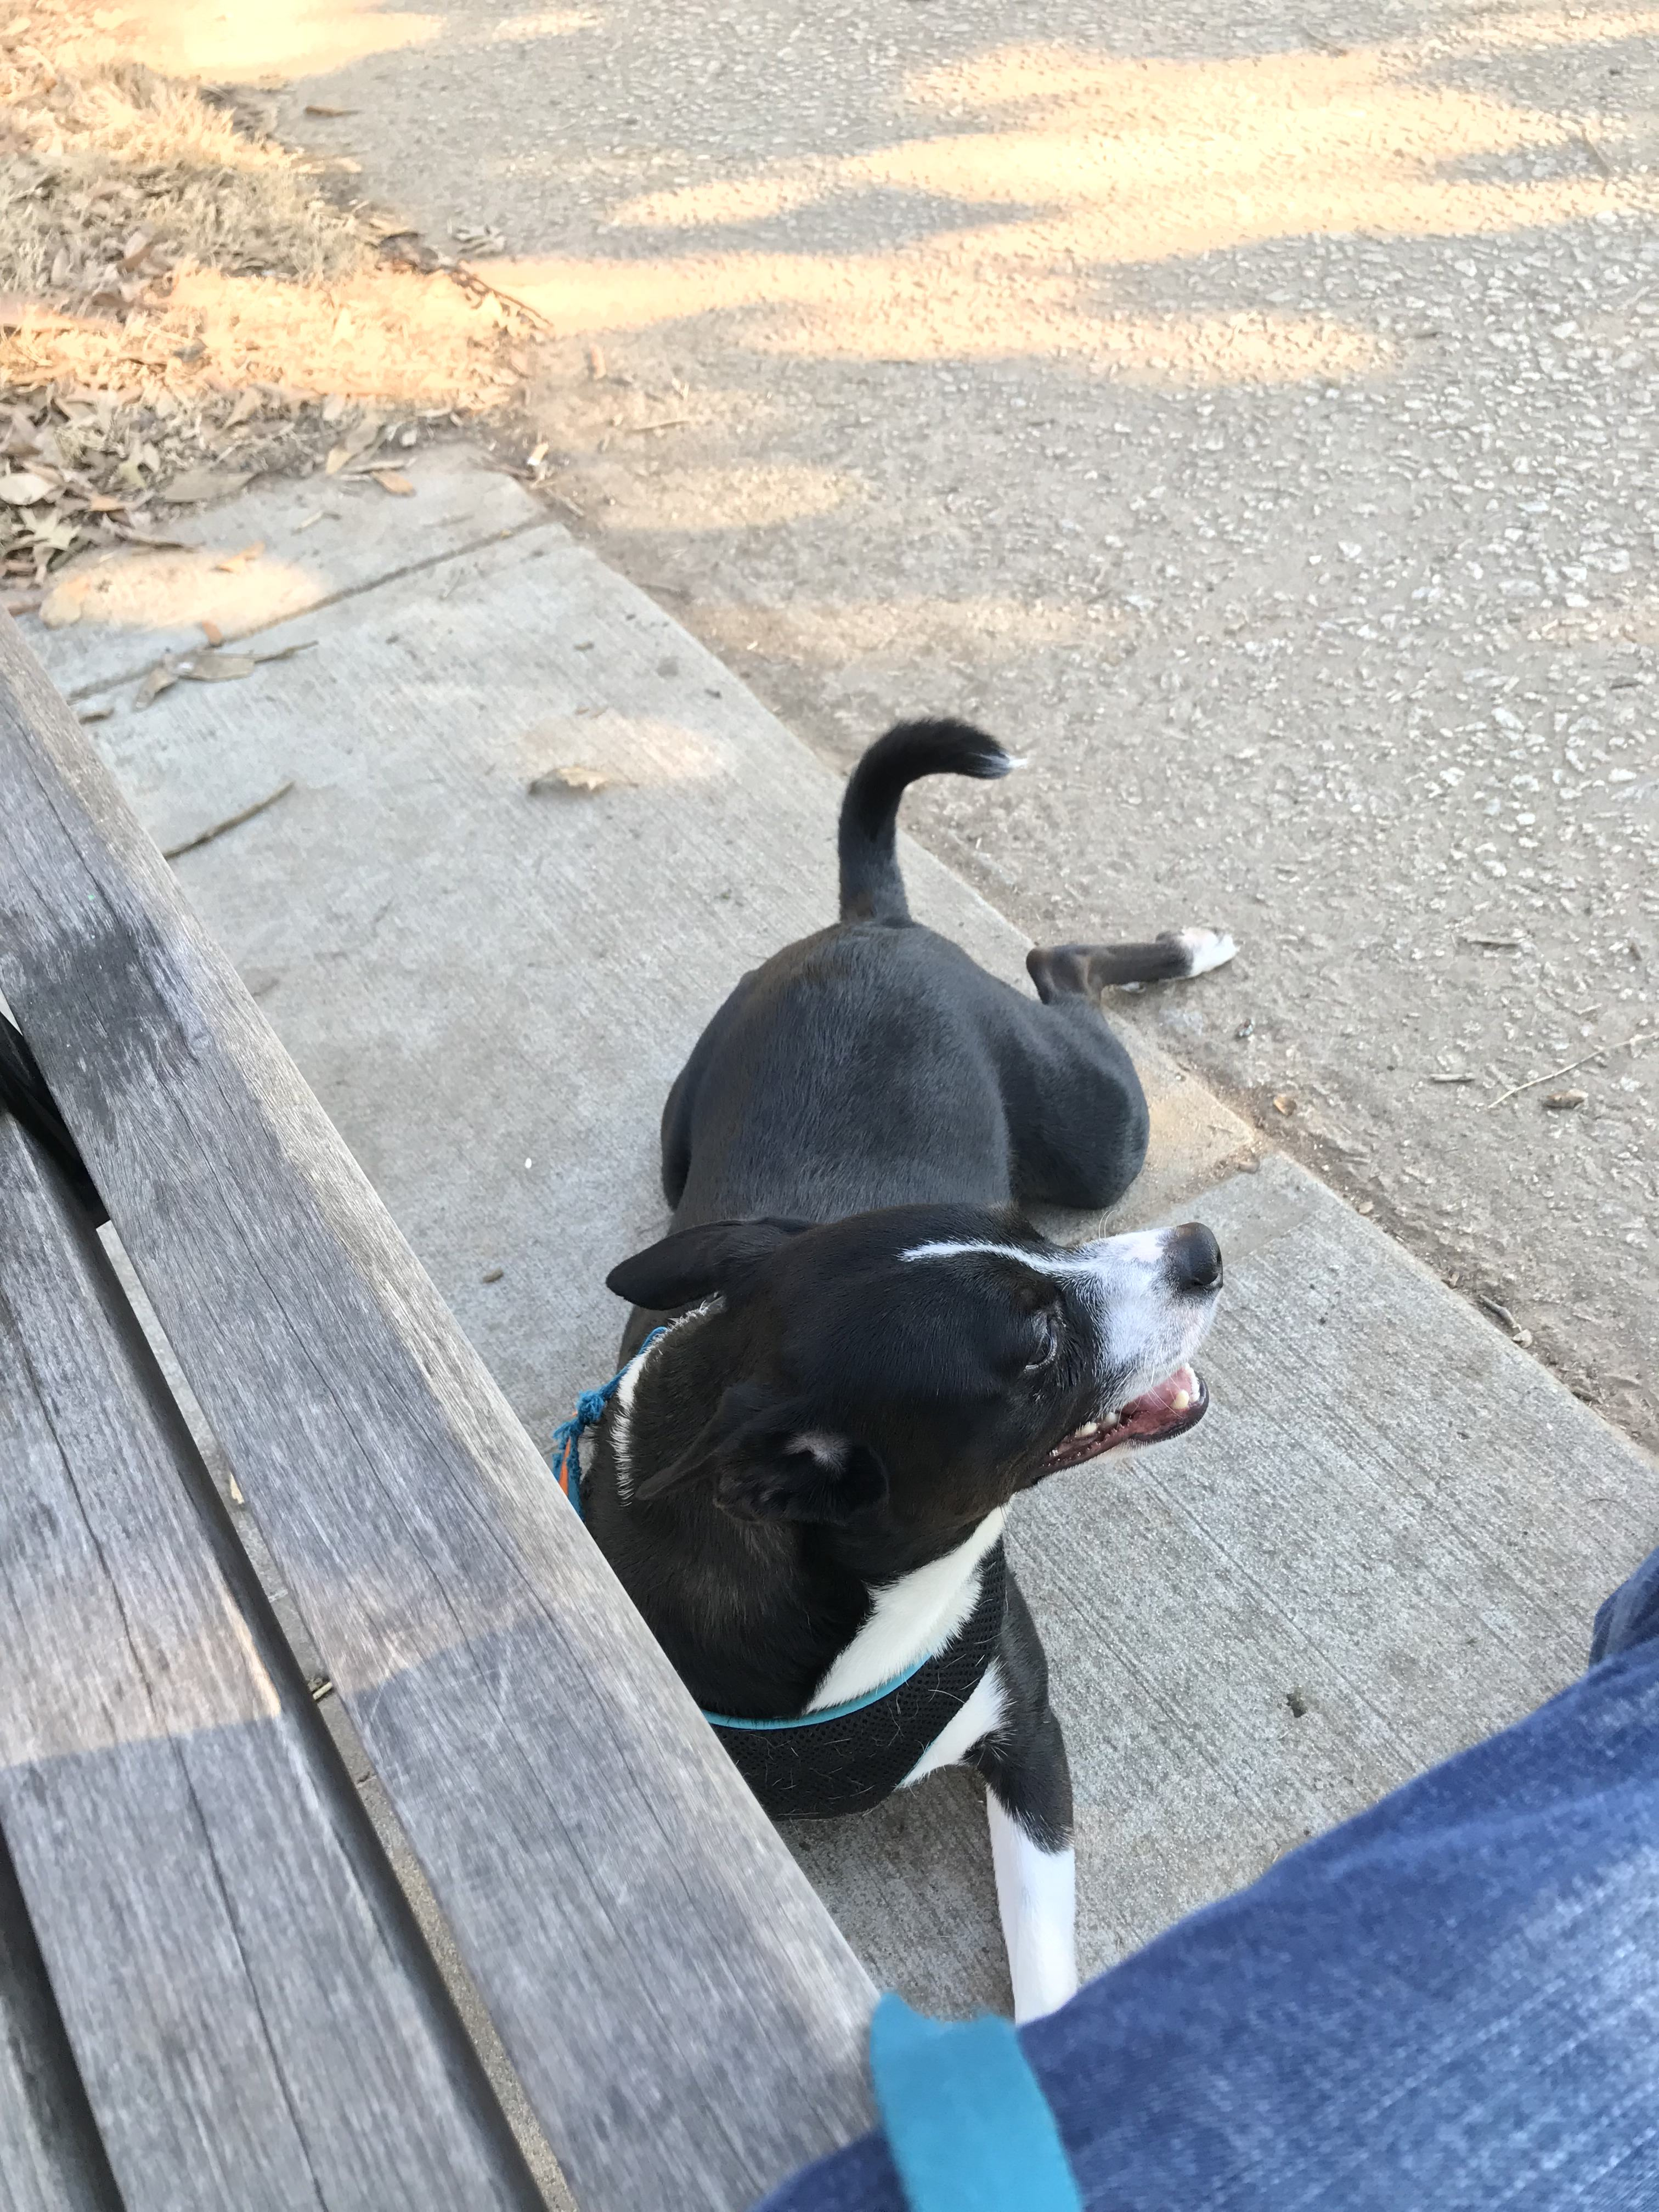Harley: (509, 683, 1291, 1853)
